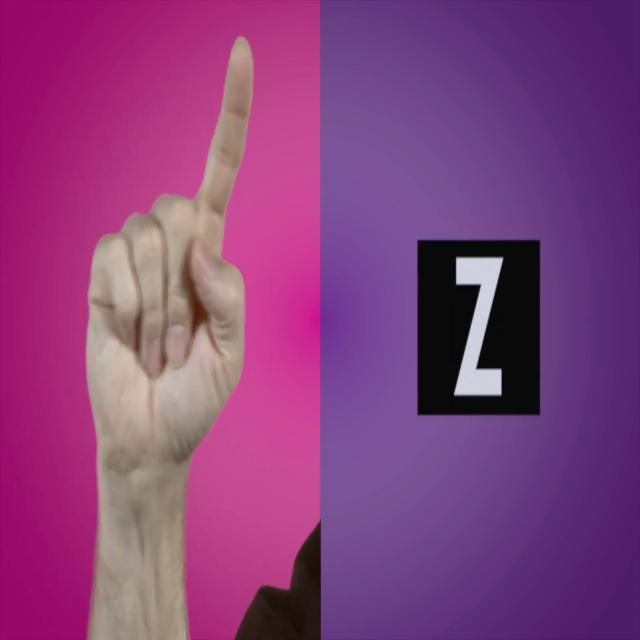Z: (63, 7, 291, 640)
